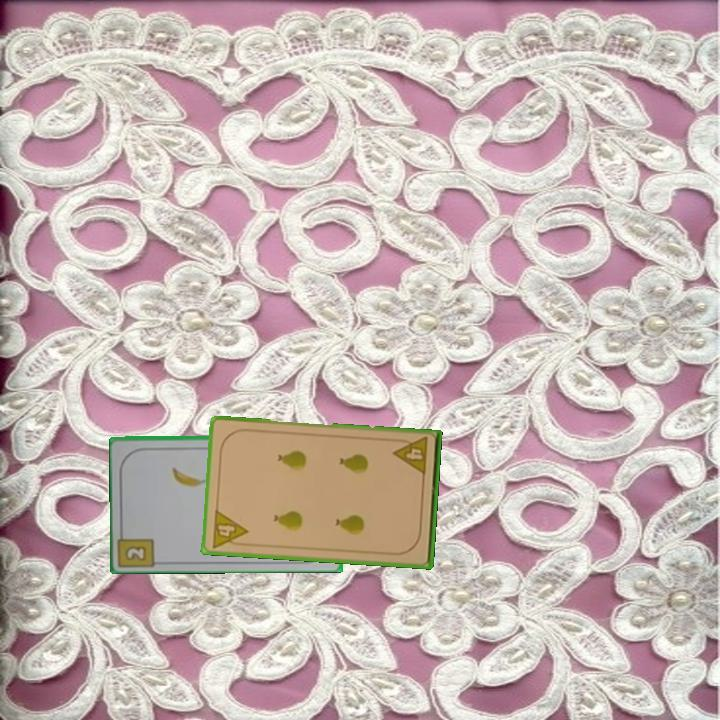2b: (122, 542, 149, 563)
4p: (208, 506, 250, 551), (390, 434, 431, 478)
